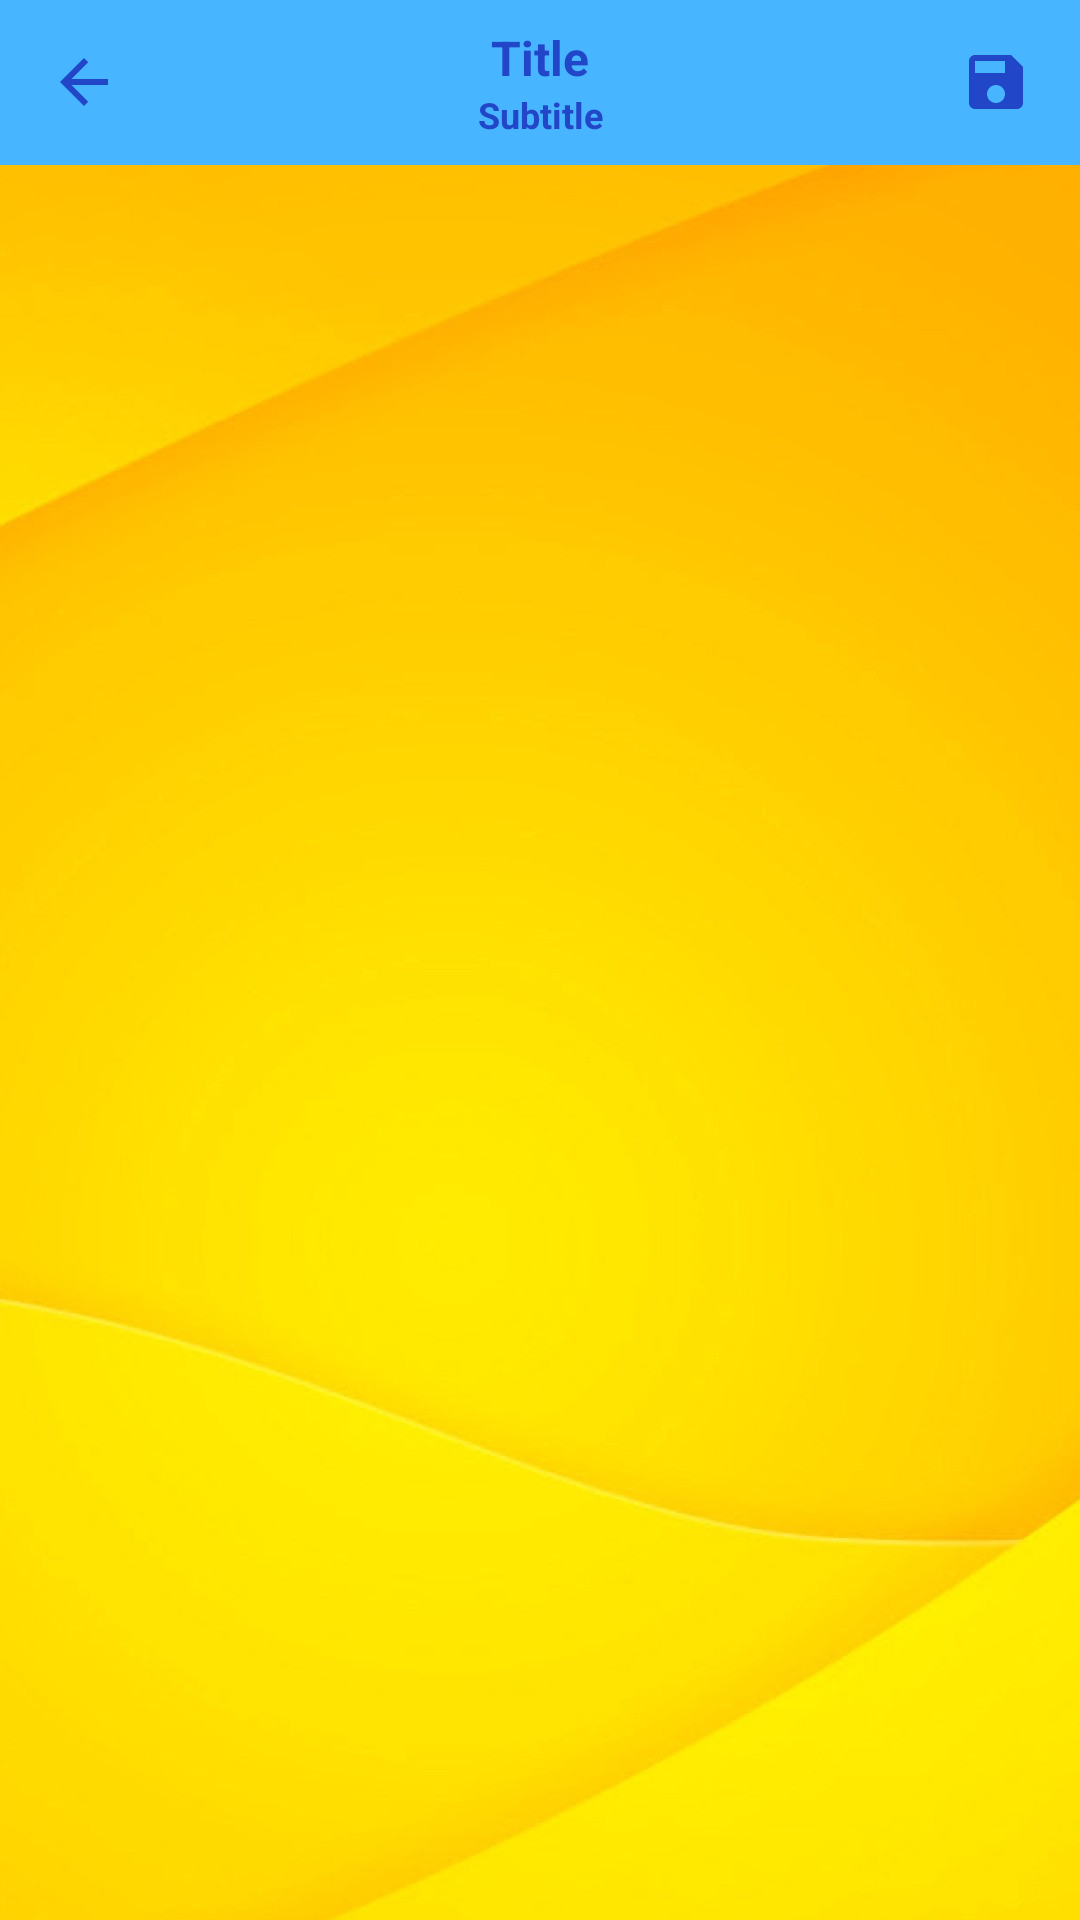

Locate icon controls on the screen. Image size 1080 × 1920, boxes as [x1=x1, y1=y1, x2=x2, y2=y2].
back: [x1=60, y1=58, x2=108, y2=106]
save: [x1=969, y1=55, x2=1023, y2=109]
